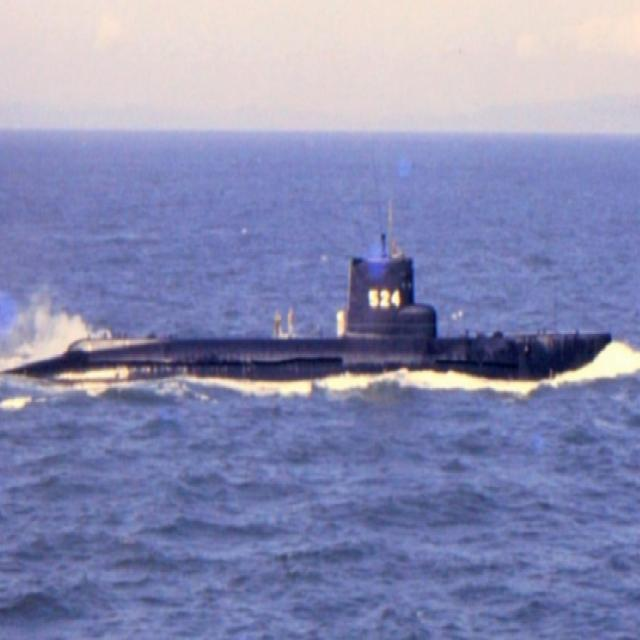submarine: (1, 247, 610, 384)
